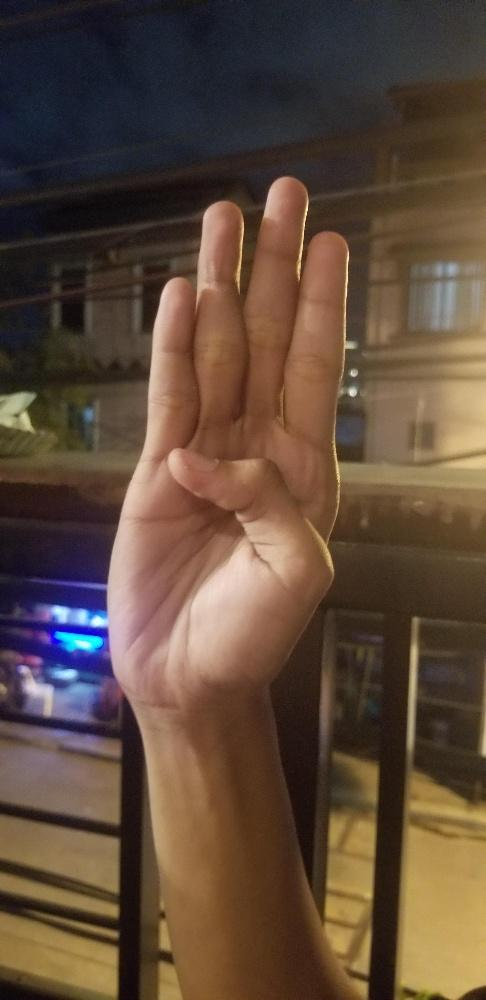b: (104, 172, 350, 699)
